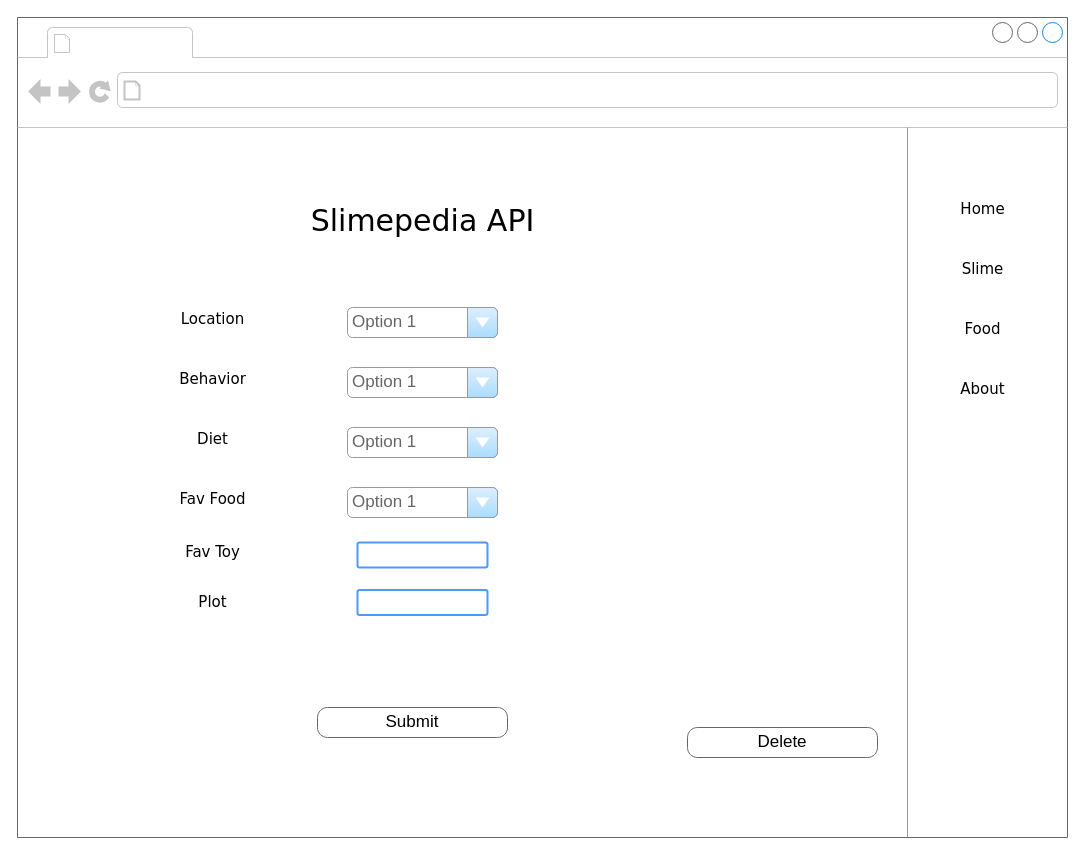
Image size: 1085x855. Some labels were removed from this diagram. Each missing label, with the box of its shape:
https://www.default.com: (146, 76, 398, 104)
Page 1: (76, 28, 188, 56)
